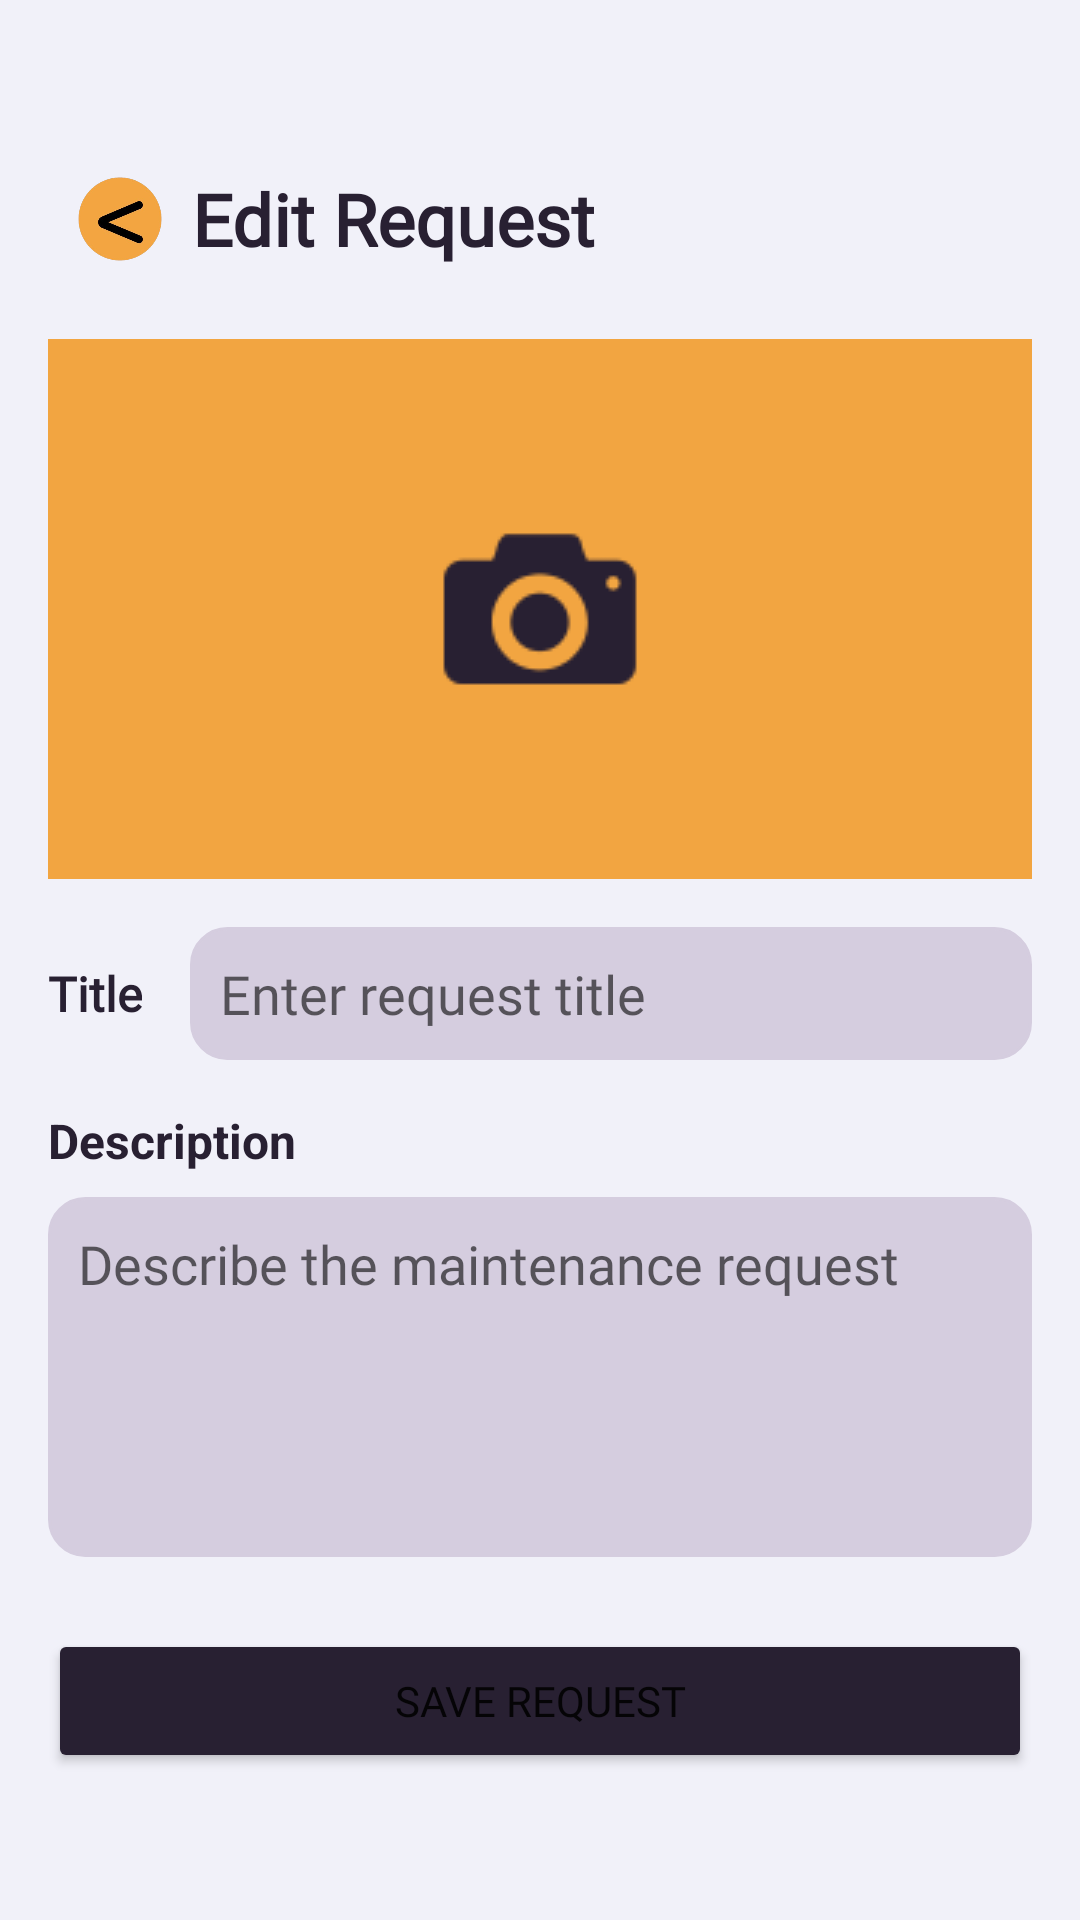

Where icons sit on this 1080x1920 app screen, as box(x1, y1, x2, y2):
Back Button: box(78, 177, 162, 261)
